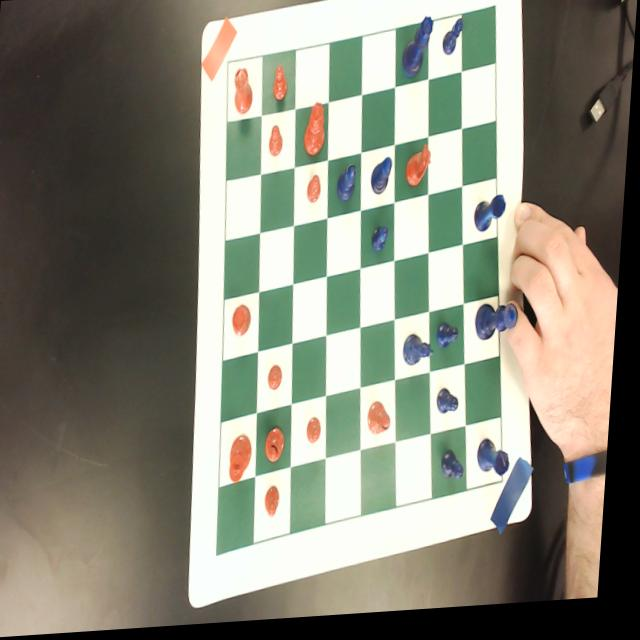B: (372, 161, 394, 200), (338, 168, 360, 207)
K: (478, 306, 522, 347)
N: (406, 337, 440, 371)
P: (442, 22, 465, 61), (440, 391, 467, 422), (447, 454, 470, 489), (440, 326, 464, 357), (373, 228, 393, 258)
Q: (401, 20, 434, 83)
R: (480, 443, 518, 483), (476, 198, 510, 238)
b: (372, 404, 398, 440), (269, 430, 291, 470)
k: (234, 436, 259, 487)
n: (406, 147, 434, 192)
p: (273, 67, 290, 106), (270, 487, 287, 522), (270, 126, 286, 161), (308, 176, 324, 207), (312, 420, 327, 448), (272, 367, 287, 394)
q: (305, 105, 328, 161)
r: (234, 69, 255, 116), (234, 306, 256, 341)
